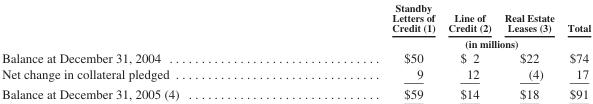table: (1, 0, 590, 101)
table column: (1, 0, 284, 101), (284, 0, 441, 101), (497, 0, 560, 101), (441, 0, 497, 101), (560, 0, 590, 101)
table column header: (1, 0, 590, 49)
table row: (1, 0, 590, 35), (1, 65, 590, 83), (1, 83, 590, 101), (1, 49, 590, 65), (1, 35, 590, 49)
table spanning cell: (284, 35, 590, 49)
